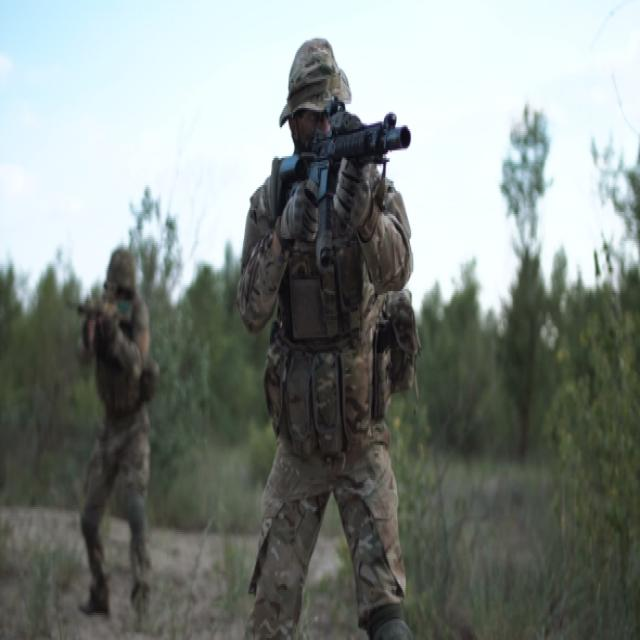soldier: (235, 24, 432, 640), (69, 235, 184, 635)
